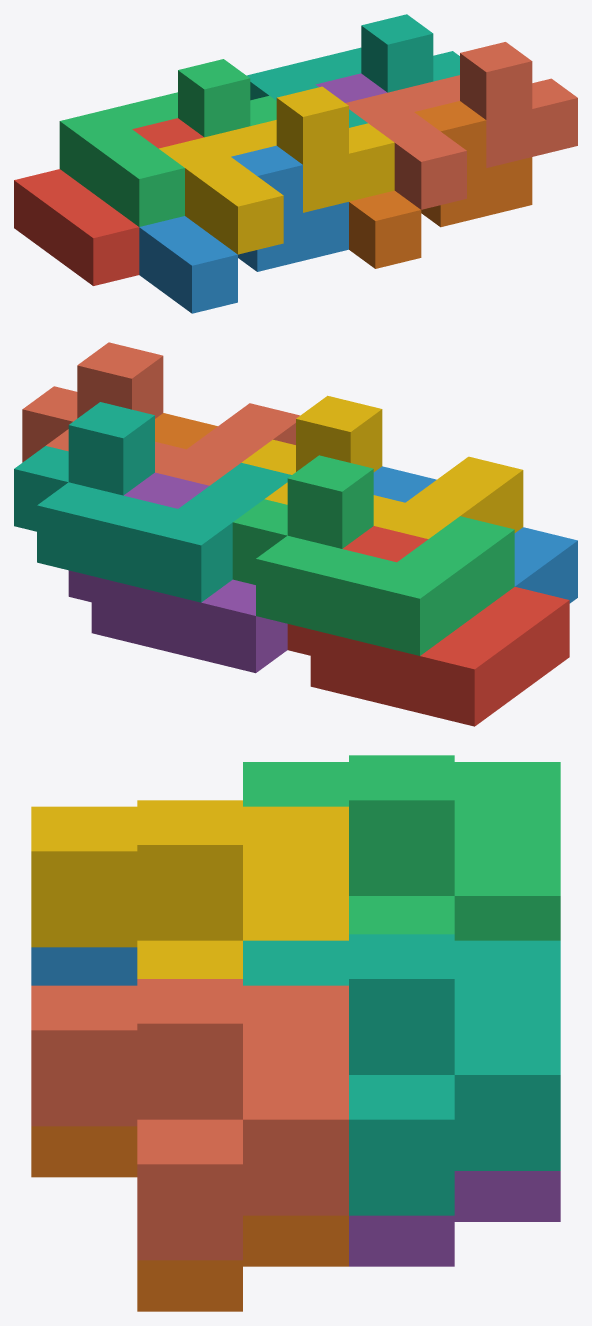
Rendered from tiling.obj.
The picture shows the model from 3 angles, top to bottom: view 1: azimuth 30°, elevation 25°; view 2: azimuth 150°, elevation 25°; view 3: azimuth 270°, elevation 25°; orthographic projection. The views are drawn at different scales.
Visible parts, largest first — view 1: copy_1_domain_4, copy_1_domain_8, copy_1_domain_3, copy_1_domain_2, copy_1_domain_6, copy_1_domain_1, copy_1_domain_7, copy_1_domain_5; view 2: copy_1_domain_3, copy_1_domain_7, copy_1_domain_1, copy_1_domain_5, copy_1_domain_4, copy_1_domain_8, copy_1_domain_2, copy_1_domain_6; view 3: copy_1_domain_8, copy_1_domain_7, copy_1_domain_4, copy_1_domain_3, copy_1_domain_6, copy_1_domain_5, copy_1_domain_2.
Part boxes in pixels (bbox=[...]): copy_1_domain_4: bbox=[159, 86, 394, 254]; copy_1_domain_8: bbox=[345, 42, 577, 209]; copy_1_domain_3: bbox=[59, 59, 276, 226]; copy_1_domain_2: bbox=[139, 145, 348, 313]; copy_1_domain_6: bbox=[349, 101, 532, 268]; copy_1_domain_1: bbox=[14, 118, 203, 285]; copy_1_domain_7: bbox=[246, 14, 459, 127]; copy_1_domain_5: bbox=[315, 73, 386, 102]; copy_1_domain_3: bbox=[232, 455, 514, 655]; copy_1_domain_7: bbox=[14, 402, 291, 602]; copy_1_domain_1: bbox=[287, 526, 569, 726]; copy_1_domain_5: bbox=[68, 472, 287, 673]; copy_1_domain_4: bbox=[241, 395, 523, 538]; copy_1_domain_8: bbox=[22, 342, 299, 485]; copy_1_domain_2: bbox=[373, 466, 577, 603]; copy_1_domain_6: bbox=[155, 413, 217, 449]; copy_1_domain_8: bbox=[31, 979, 348, 1260]; copy_1_domain_7: bbox=[243, 934, 560, 1215]; copy_1_domain_4: bbox=[31, 800, 348, 978]; copy_1_domain_3: bbox=[243, 755, 560, 940]; copy_1_domain_6: bbox=[31, 1126, 348, 1311]; copy_1_domain_5: bbox=[349, 1171, 560, 1266]; copy_1_domain_2: bbox=[31, 947, 137, 985].
Size of the model in its own units: 10 by 3 by 5.
